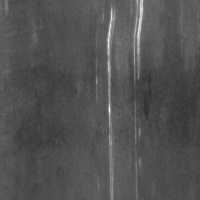scratches: (103, 2, 122, 200), (129, 1, 149, 83)
